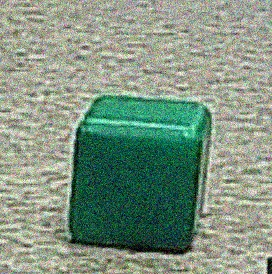green_cube: (57, 82, 230, 265)
